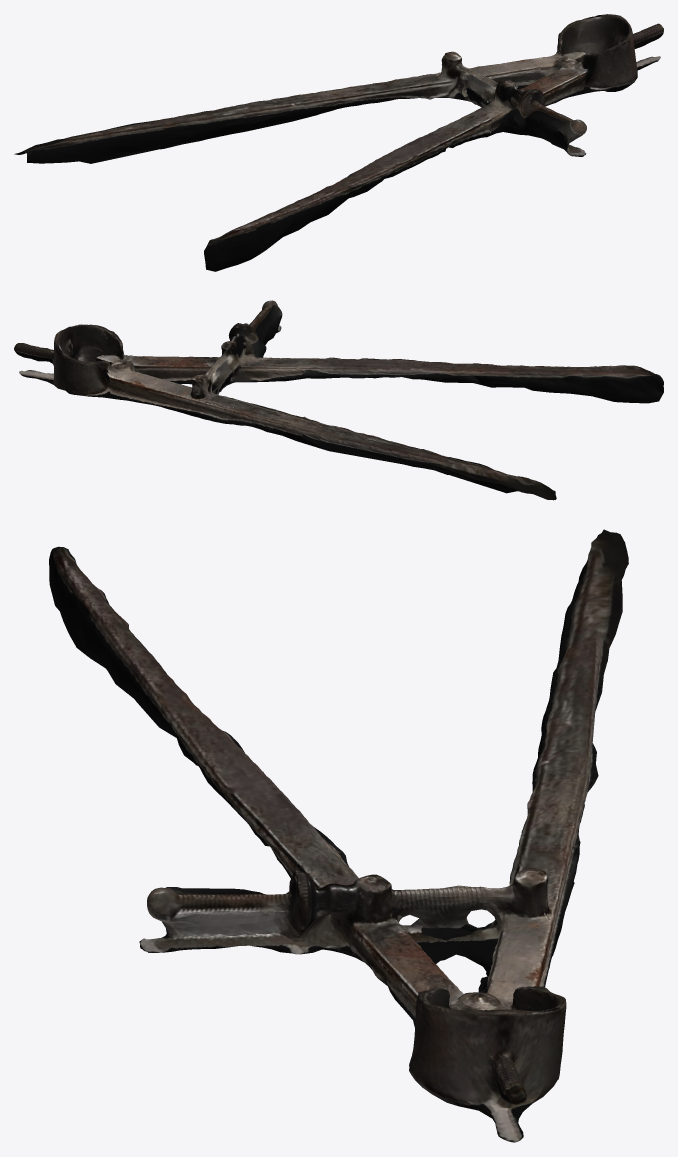
File: compass.obj
The picture shows the model from 3 angles, top to bottom: view 1: azimuth 30°, elevation 25°; view 2: azimuth 150°, elevation 25°; view 3: azimuth 270°, elevation 25°; orthographic projection. The views are drawn at different scales.
Bounding box in the file's own units: 1.13 × 0.1067 × 0.5031.
